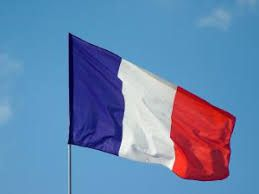French Flag: (70, 33, 235, 181)
